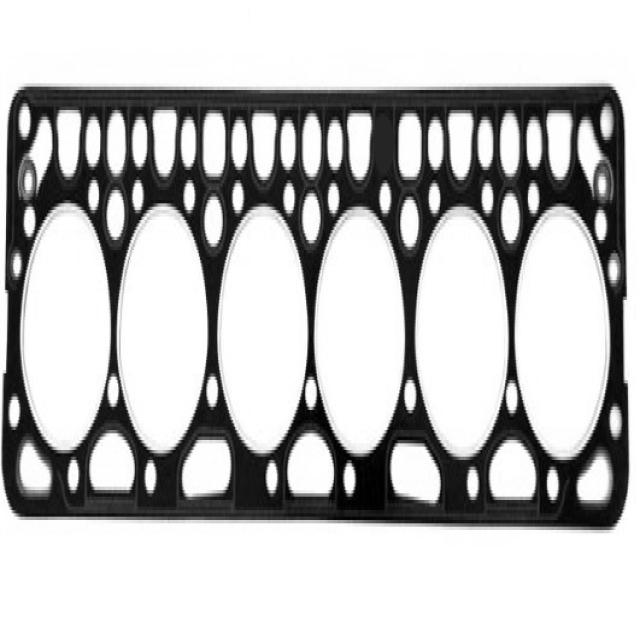missing hole: (372, 92, 400, 193)
